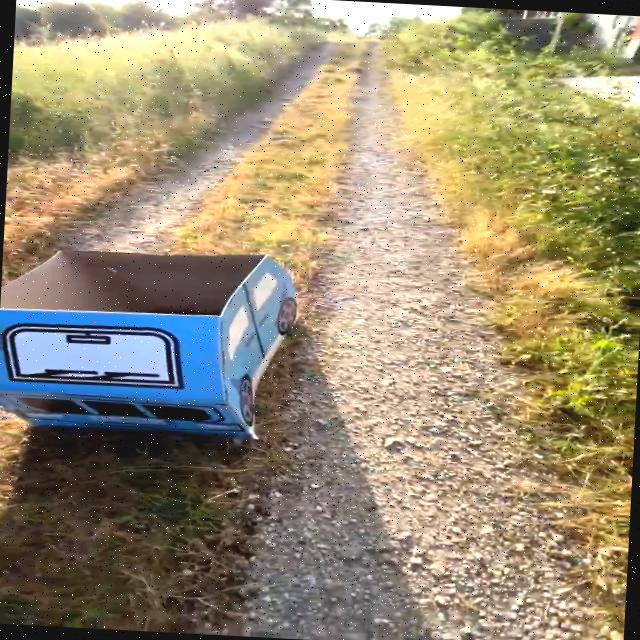blue_car: (0, 230, 398, 470)
